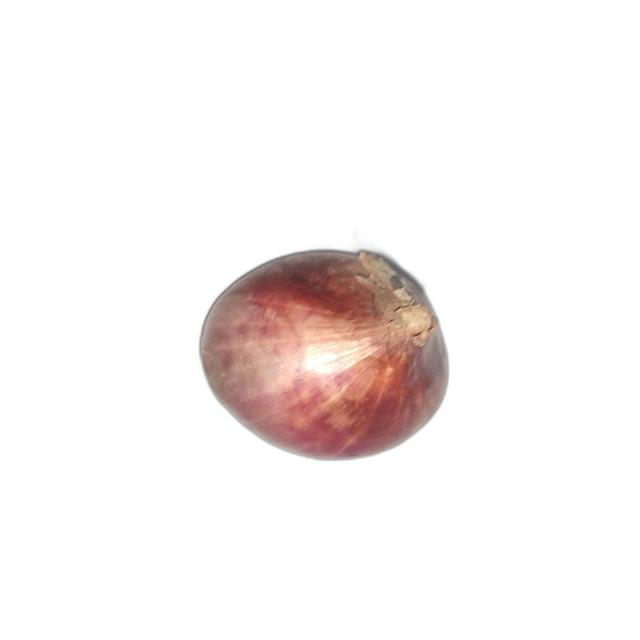onion: (199, 249, 452, 461)
